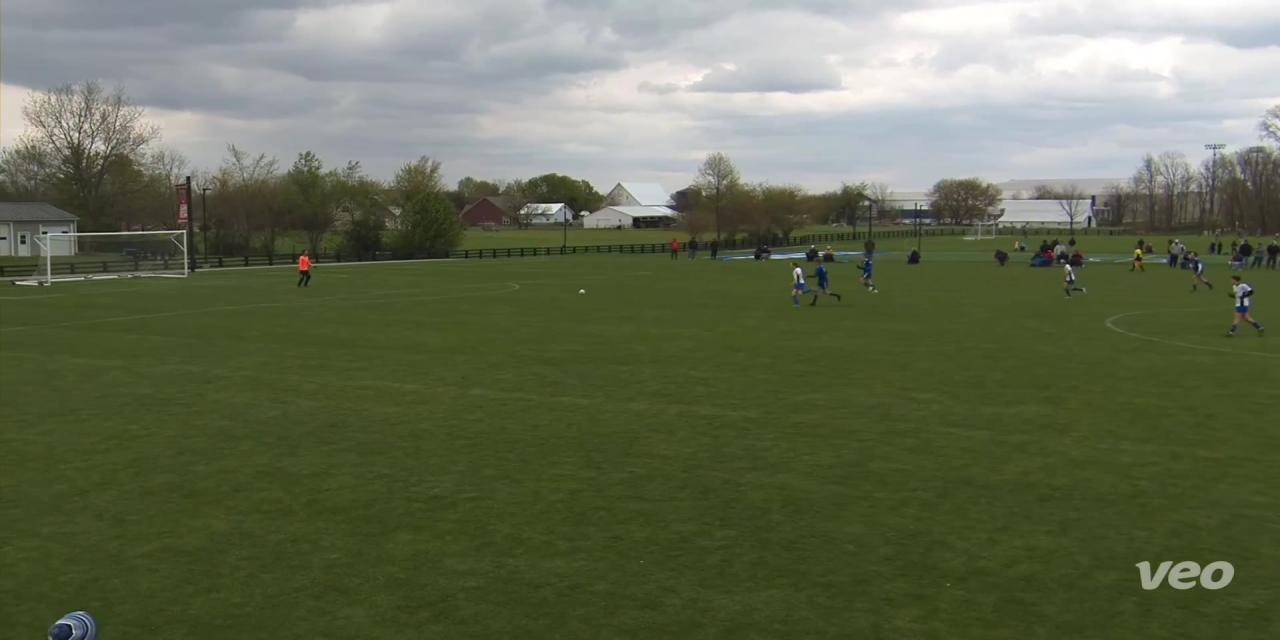goal: (13, 226, 194, 290)
sports ball: (572, 284, 591, 302)
